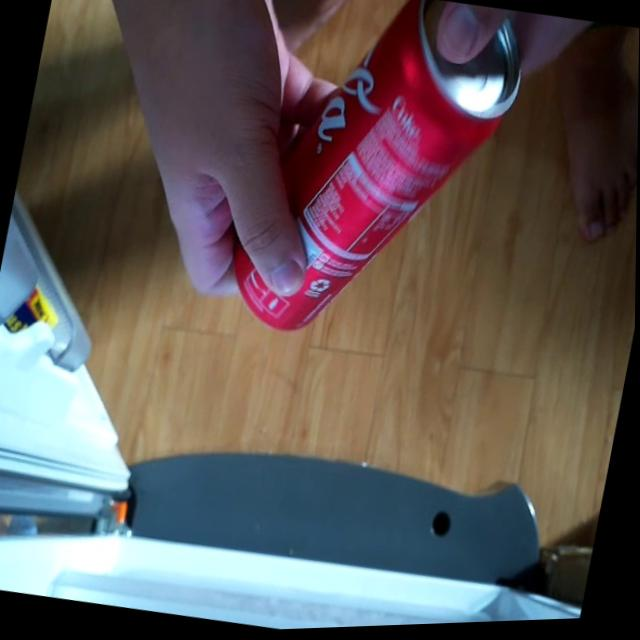coke: (208, 0, 543, 371)
